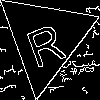R: (20, 14, 68, 69)
